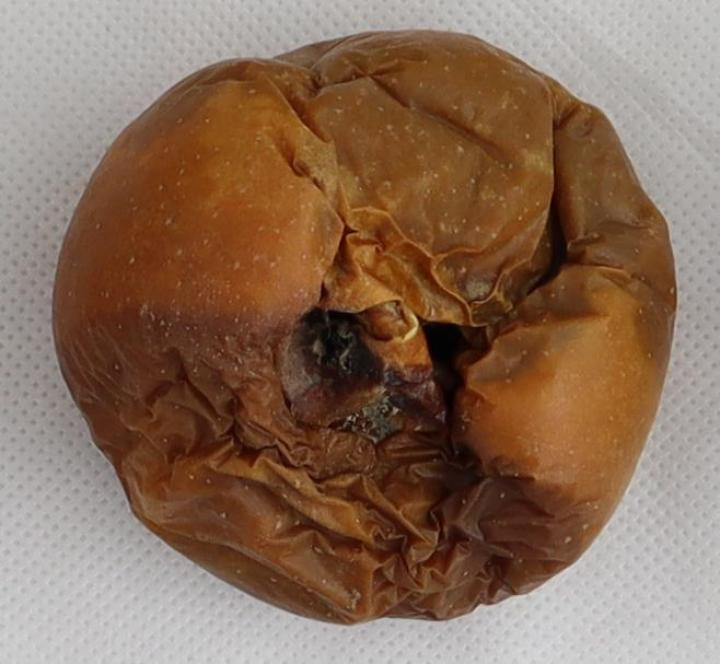apple: (54, 31, 675, 623)
rot_mold_decay: (54, 31, 674, 623)
